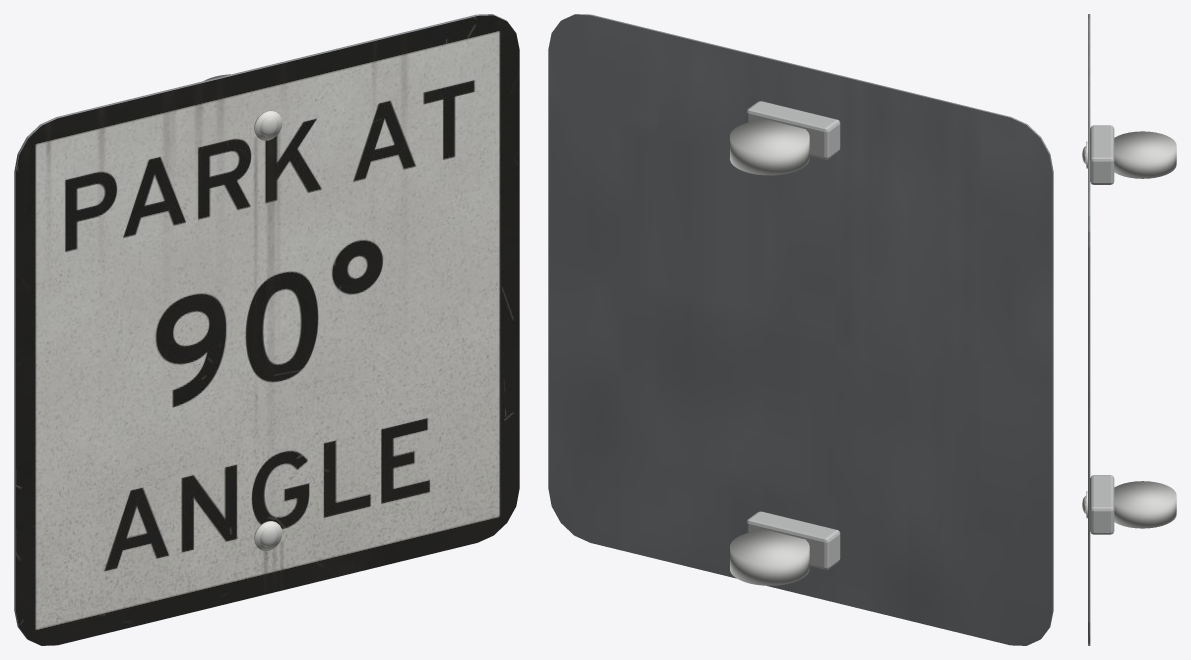
File: parkingAngle-v1.glb
The picture shows the model from 3 angles, left to right: view 1: azimuth 30°, elevation 25°; view 2: azimuth 150°, elevation 25°; view 3: azimuth 270°, elevation 25°; orthographic projection. The views are drawn at different scales.
Visible parts, largest first — view 1: parkingAngle-v1; view 2: parkingAngle-v1; view 3: parkingAngle-v1.
Part boxes in pixels (box(x1,y1,x2,y2)): parkingAngle-v1: box(14, 14, 519, 645); parkingAngle-v1: box(548, 14, 1053, 645); parkingAngle-v1: box(1082, 14, 1176, 645).
Bounding box in the file's own units: 0.4572 × 0.4572 × 0.0871.
Materials: 1 (1 with a texture image).
